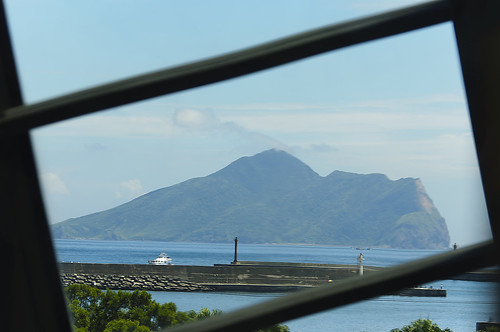turtleIsland: (45, 148, 456, 251)
